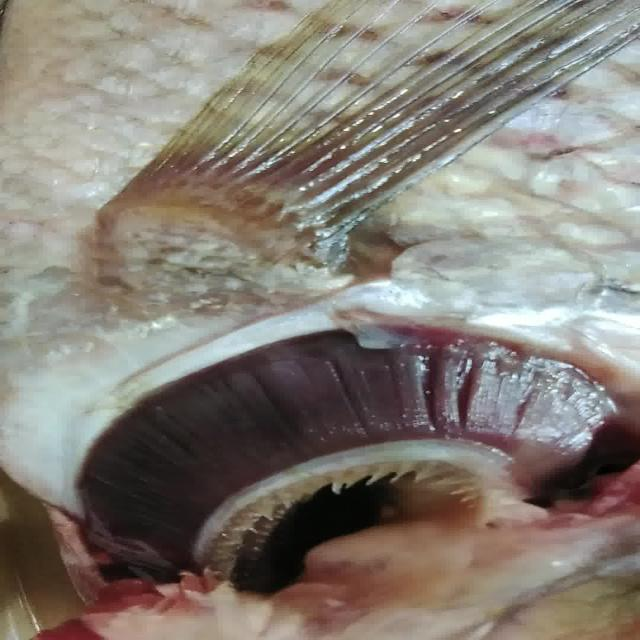Non-Fresh: (65, 308, 618, 576)
